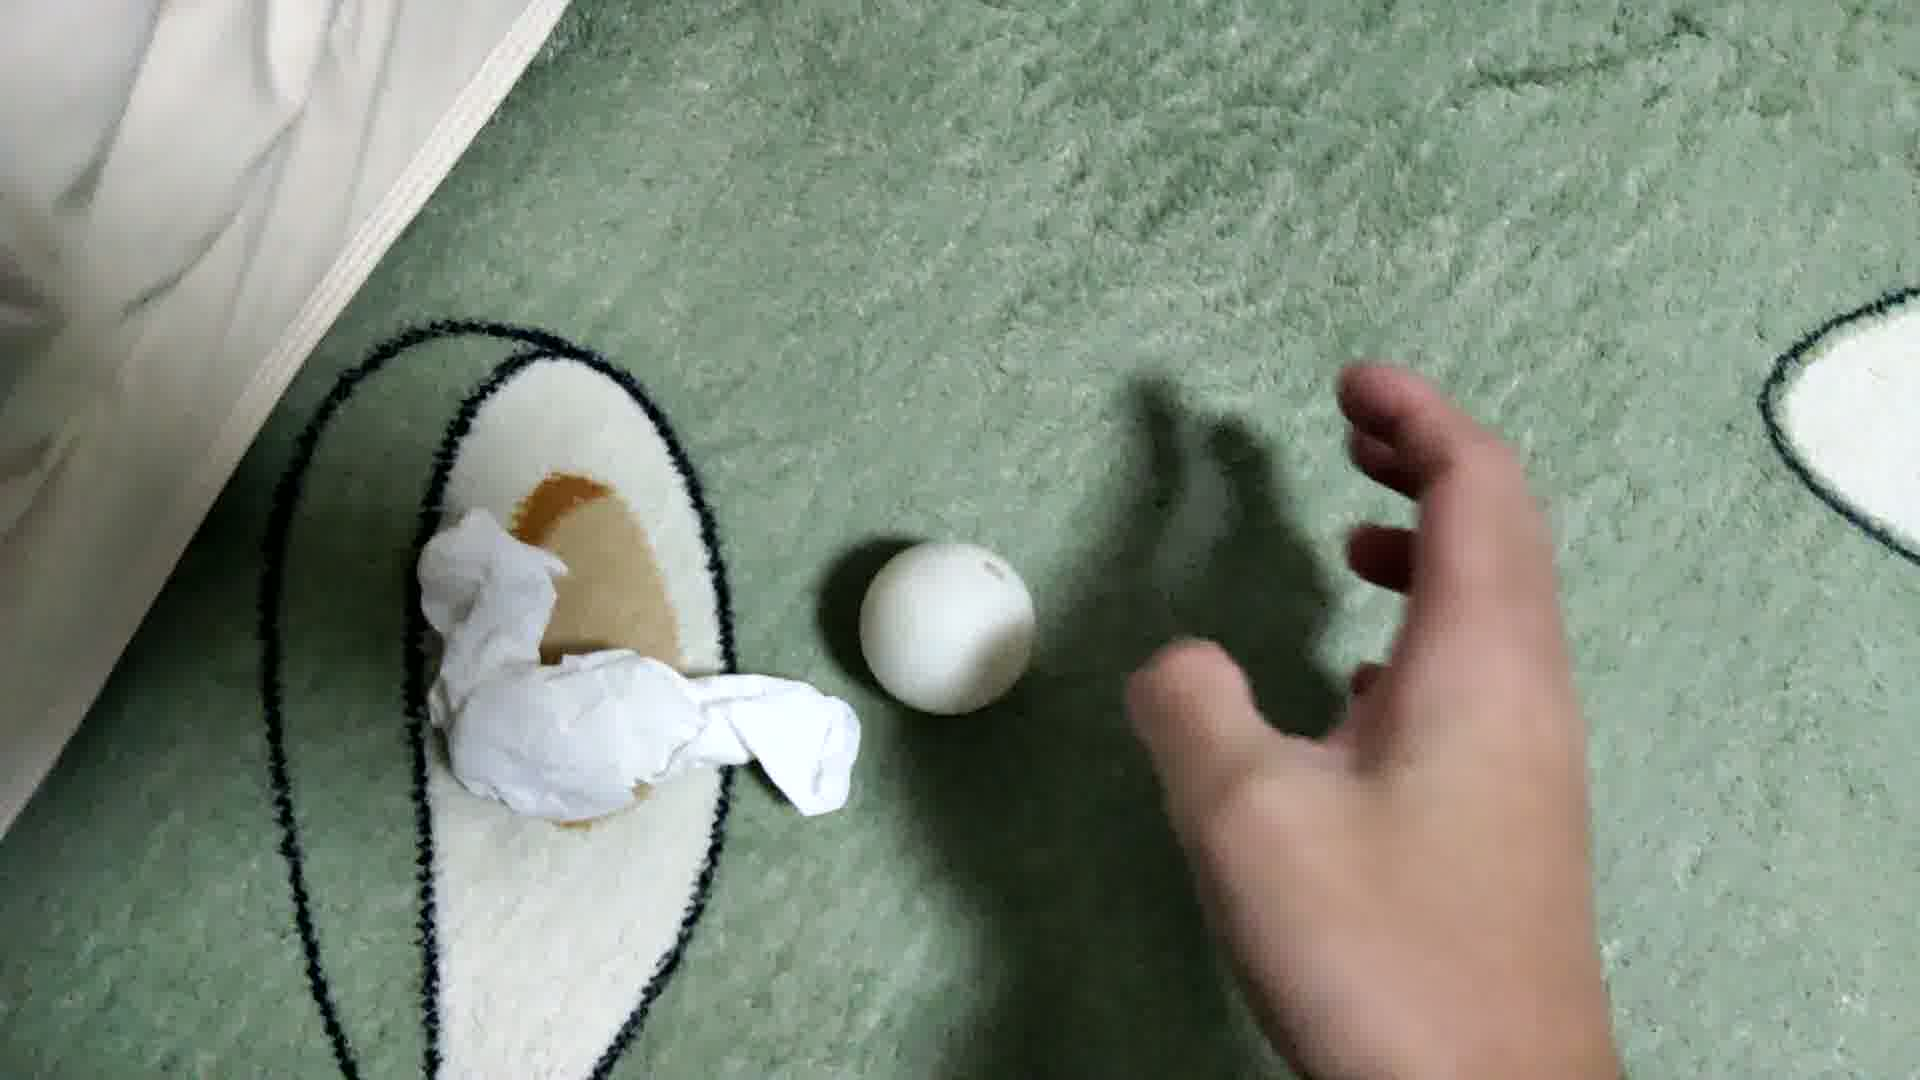Ball: (858, 541, 1043, 716)
